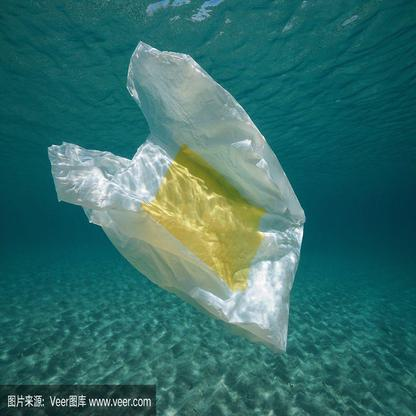plastic bag: (46, 42, 305, 347)
